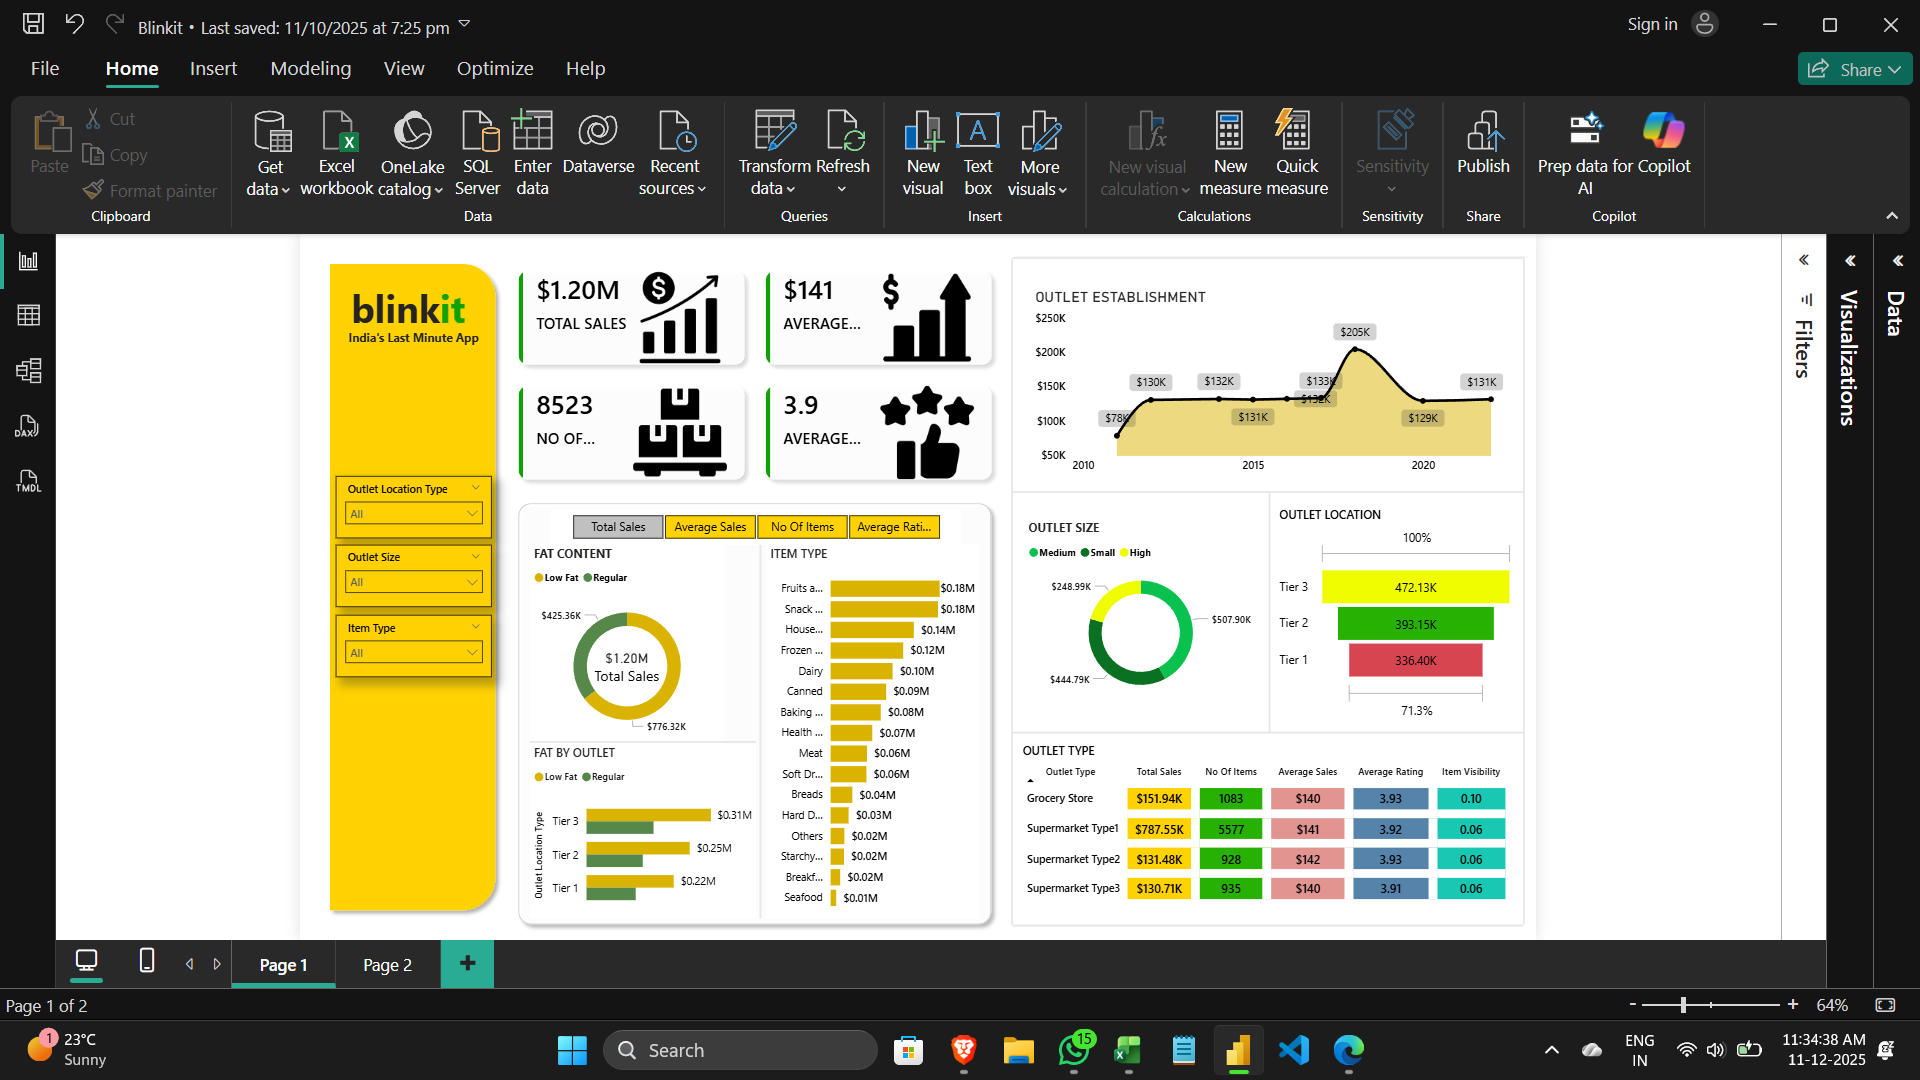

Layout of this report page (visuals, bound fields, positions):
{"tool":"powerbi","page":{"name":"Page 1","canvas":[1400,800],"ordinal":0},"visuals":[{"type":"shape","box":[25.5,25.5,205.6,750.4],"z":0},{"type":"textbox","box":[52.5,49.5,151.6,69],"z":1000},{"type":"textbox","box":[49.5,102.1,159.1,31.5],"z":2000},{"type":"cardVisual","fields":{"Data":["BlinkIT Grocery Data.Total Sales","BlinkIT Grocery Data.Average Sales","BlinkIT Grocery Data.No Of Items","BlinkIT Grocery Data.Average Rating"]},"box":[231.1,25.5,570.3,270.2],"z":3000},{"type":"shape","box":[238.6,295.7,553.8,495.3],"z":4000},{"type":"donutChart","title":"FAT CONTENT","fields":{"Y":["BlinkIT Grocery Data.Total Sales"],"Category":["BlinkIT Grocery Data.Item Fat Content"]},"box":[259.6,352.7,220.6,229.6],"z":5000},{"type":"slicer","fields":{"Values":["Metrics.Metrics"]},"box":[283.7,312.2,465.3,40.5],"z":6000},{"type":"cardVisual","fields":{"Data":["BlinkIT Grocery Data.Total Sales"]},"box":[316.7,456.3,108.1,70.5],"z":7000},{"type":"clusteredBarChart","title":"FAT BY OUTLET","fields":{"Y":["BlinkIT Grocery Data.Total Sales"],"Category":["BlinkIT Grocery Data.Outlet Location Type"],"Series":["BlinkIT Grocery Data.Item Fat Content"]},"box":[259.6,577.8,256.6,198.1],"z":8000},{"type":"shape","box":[259.6,568.8,256.6,13.5],"z":9000},{"type":"shape","box":[516.3,352.7,12,423.2],"z":10000},{"type":"barChart","title":"ITEM TYPE","fields":{"Y":["BlinkIT Grocery Data.Total Sales"],"Category":["BlinkIT Grocery Data.Item Type"]},"box":[528.8,352.5,241.2,423.8],"z":11000},{"type":"lineChart","title":"OUTLET ESTABLISHMENT","fields":{"Y":["BlinkIT Grocery Data.Total Sales"],"Category":["BlinkIT Grocery Data.Outlet Establishment Year"]},"box":[815.7,50,564.3,242.9],"z":12000},{"type":"donutChart","title":"OUTLET SIZE","fields":{"Y":["BlinkIT Grocery Data.Total Sales"],"Category":["BlinkIT Grocery Data.Outlet Size"]},"box":[814.3,318.6,275.7,224.3],"z":13000},{"type":"funnel","title":"OUTLET LOCATION","fields":{"Y":["Sum(BlinkIT Grocery Data.Sales)"],"Category":["BlinkIT Grocery Data.Outlet Location Type"]},"box":[1104.3,308.6,275.7,247.1],"z":14000},{"type":"pivotTable","title":"OUTLET TYPE","fields":{"Rows":["BlinkIT Grocery Data.Outlet Type"],"Values":["BlinkIT Grocery Data.Total Sales","BlinkIT Grocery Data.No Of Items","BlinkIT Grocery Data.Average Sales","BlinkIT Grocery Data.Average Rating","Avg(BlinkIT Grocery Data.Item Visibility)"]},"box":[810,572.5,565,202.5],"z":15000},{"type":"shape","box":[800.9,28.6,12.3,754.5],"z":16000},{"type":"shape","box":[807.2,558.3,578.9,14.4],"z":17000},{"type":"shape","box":[1091.7,292.8,12.8,271.7],"z":18000},{"type":"shape","box":[807.2,285.6,580,14.4],"z":19000},{"type":"shape","box":[1380,28.6,12.7,754.5],"z":20000},{"type":"shape","box":[797.3,17.7,599.1,15],"z":21000},{"type":"shape","box":[807.3,775.5,579.1,15.5],"z":22000},{"type":"slicer","fields":{"Values":["BlinkIT Grocery Data.Outlet Location Type"]},"box":[40,273.8,176.9,70.8],"z":23000},{"type":"slicer","fields":{"Values":["BlinkIT Grocery Data.Outlet Size"]},"box":[40,352.3,176.9,70.8],"z":24000},{"type":"slicer","fields":{"Values":["BlinkIT Grocery Data.Item Type"]},"box":[40,430.8,176.9,70.8],"z":25000}]}

Visuals, with their boxes on the page's 1400x800 design canvas (x1, y1, x2, y2). These are canvas units, not pixel positions in the 1920x1080 screenshot, which may show the page scaled, cropped or inside an application window:
shape: rect(26, 26, 231, 776)
textbox: rect(52, 50, 204, 118)
textbox: rect(50, 102, 209, 134)
cardVisual - BlinkIT Grocery Data.Total Sales x BlinkIT Grocery Data.Average Sales: rect(231, 26, 801, 296)
shape: rect(239, 296, 792, 791)
"FAT CONTENT" donutChart: rect(260, 353, 480, 582)
slicer - Metrics.Metrics: rect(284, 312, 749, 353)
cardVisual - BlinkIT Grocery Data.Total Sales: rect(317, 456, 425, 527)
"FAT BY OUTLET" clusteredBarChart: rect(260, 578, 516, 776)
shape: rect(260, 569, 516, 582)
shape: rect(516, 353, 528, 776)
"ITEM TYPE" barChart: rect(529, 352, 770, 776)
"OUTLET ESTABLISHMENT" lineChart: rect(816, 50, 1380, 293)
"OUTLET SIZE" donutChart: rect(814, 319, 1090, 543)
"OUTLET LOCATION" funnel: rect(1104, 309, 1380, 556)
"OUTLET TYPE" pivotTable: rect(810, 572, 1375, 775)
shape: rect(801, 29, 813, 783)
shape: rect(807, 558, 1386, 573)
shape: rect(1092, 293, 1104, 564)
shape: rect(807, 286, 1387, 300)
shape: rect(1380, 29, 1393, 783)
shape: rect(797, 18, 1396, 33)
shape: rect(807, 776, 1386, 791)
slicer - BlinkIT Grocery Data.Outlet Location Type: rect(40, 274, 217, 345)
slicer - BlinkIT Grocery Data.Outlet Size: rect(40, 352, 217, 423)
slicer - BlinkIT Grocery Data.Item Type: rect(40, 431, 217, 502)
